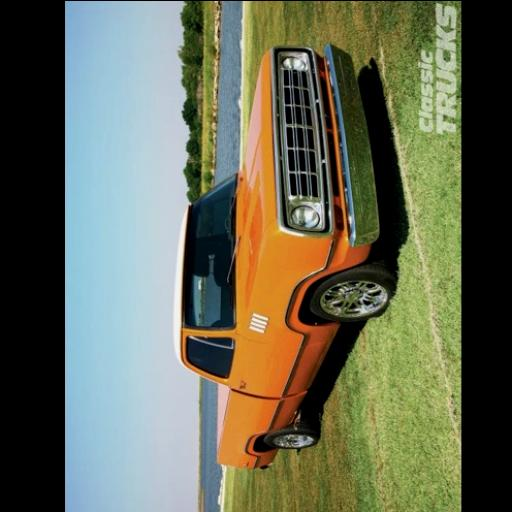truck: (172, 40, 396, 470)
